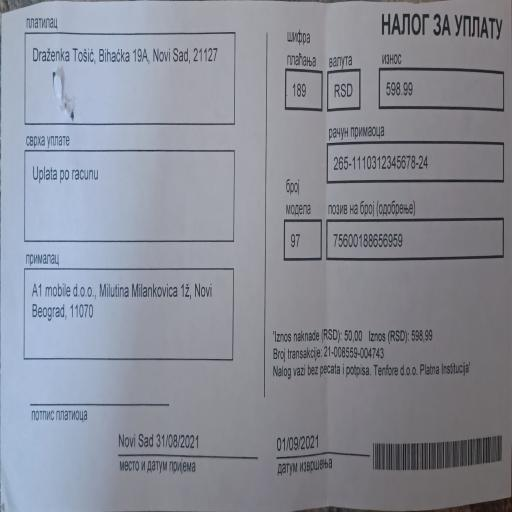svrha_uplate: (24, 128, 234, 239)
uplatnica: (281, 15, 504, 273)
